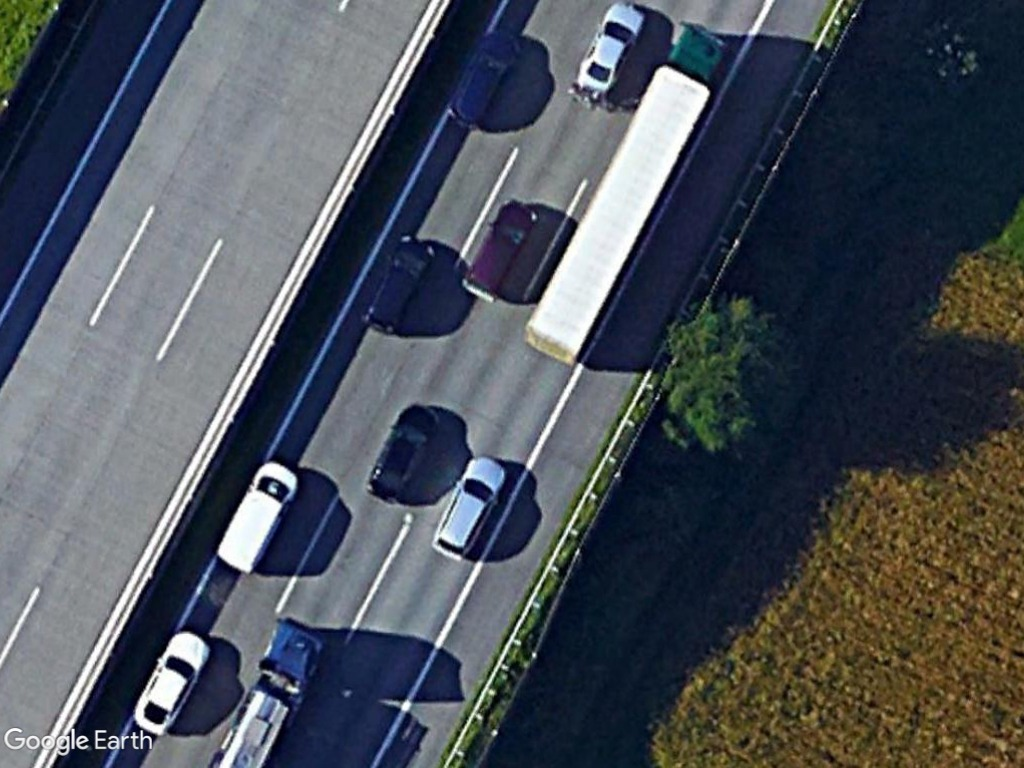car: (124, 624, 216, 741), (426, 451, 514, 565), (451, 195, 541, 306), (438, 23, 524, 137), (353, 227, 441, 335), (360, 401, 446, 506), (574, 1, 654, 99)
longvehicle: (522, 17, 735, 370)
van: (208, 454, 306, 578)
